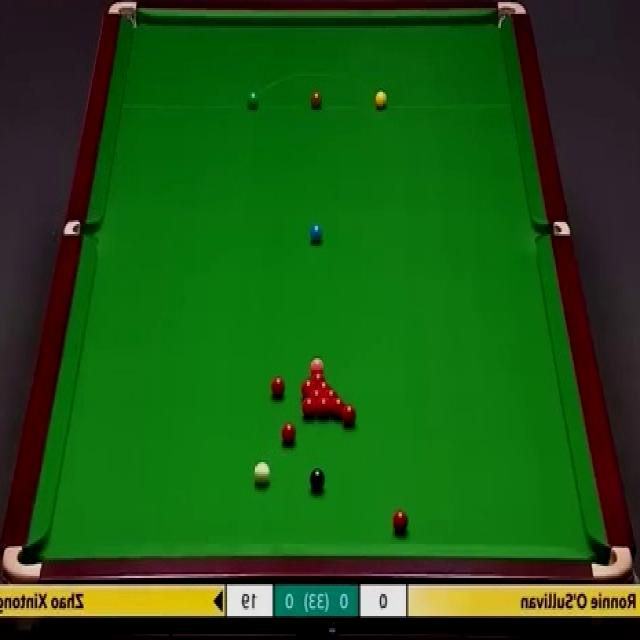black-ball: (307, 466, 324, 491)
blue-ball: (309, 222, 323, 246)
brown-ball: (310, 91, 324, 110)
green-ball: (247, 89, 260, 110)
pink-ball: (310, 358, 326, 373)
red-ball: (393, 508, 408, 536), (281, 421, 297, 446), (308, 384, 323, 406), (270, 376, 285, 398), (342, 404, 357, 425), (330, 397, 344, 419), (301, 398, 315, 419), (316, 399, 330, 419), (300, 379, 310, 398), (323, 388, 338, 400), (310, 375, 323, 386)
white-ball: (254, 459, 271, 486)
yellow-ball: (376, 90, 388, 108)
